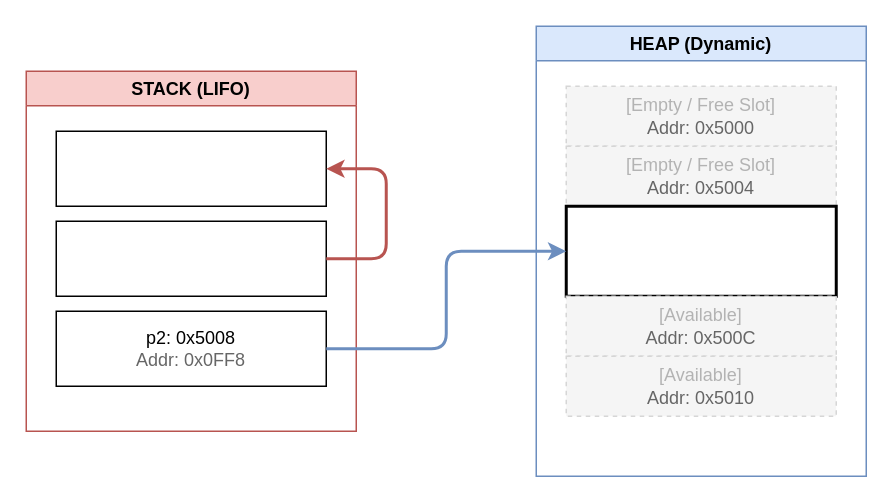
Some shapes in this 893 by 503 pixel diagram are drawn without their labels. The centre of each missing label's shape, as x and y in pixels:
local_val: 10 Addr: 0x1000: the point at 190,168
p1: 0x1000 Addr: 0x0FFC: the point at 190,258
Value: 20 Addr: 0x5008: the point at 700,250
